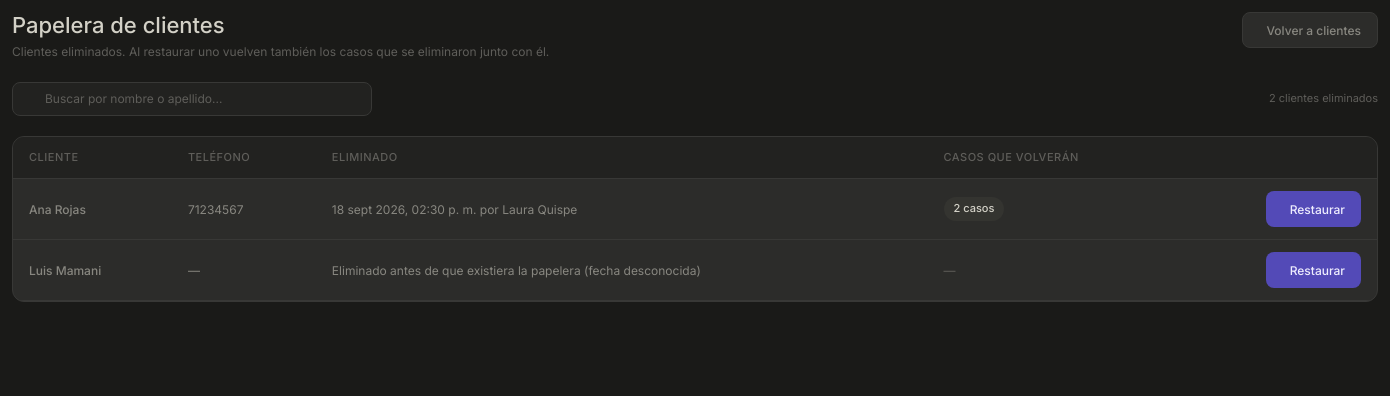
Test: PapeleraClientesPage › si el servidor rechaza la restauración muestra el mensaje
This screenshot has width=1390, height=396.
Expected: the text "Ana Rojas" is shown, x1=13 y1=179 x2=172 y2=240
Click the button "Restaurar" in the row of "Ana Rojas". click: [1313, 209]
box: x1=1266 y1=191 x2=1361 y2=227
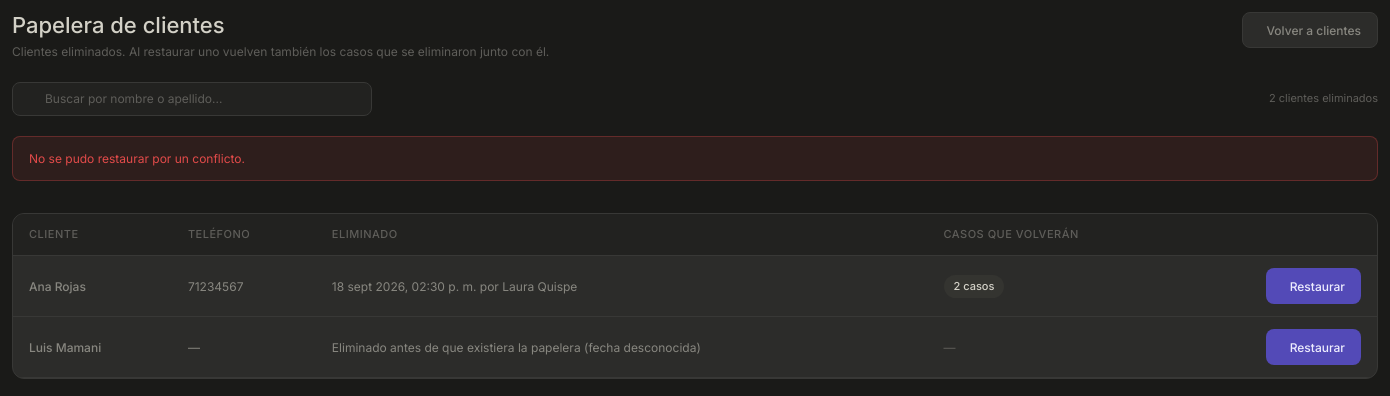
Expected: the text "No se pudo restaurar por un conflicto." is shown, x1=12 y1=136 x2=1378 y2=181
